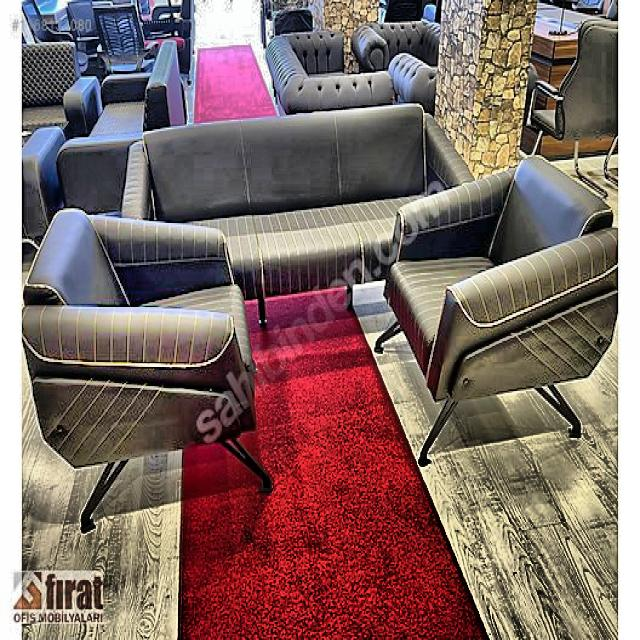sofa: (121, 100, 475, 328), (376, 152, 618, 465)
